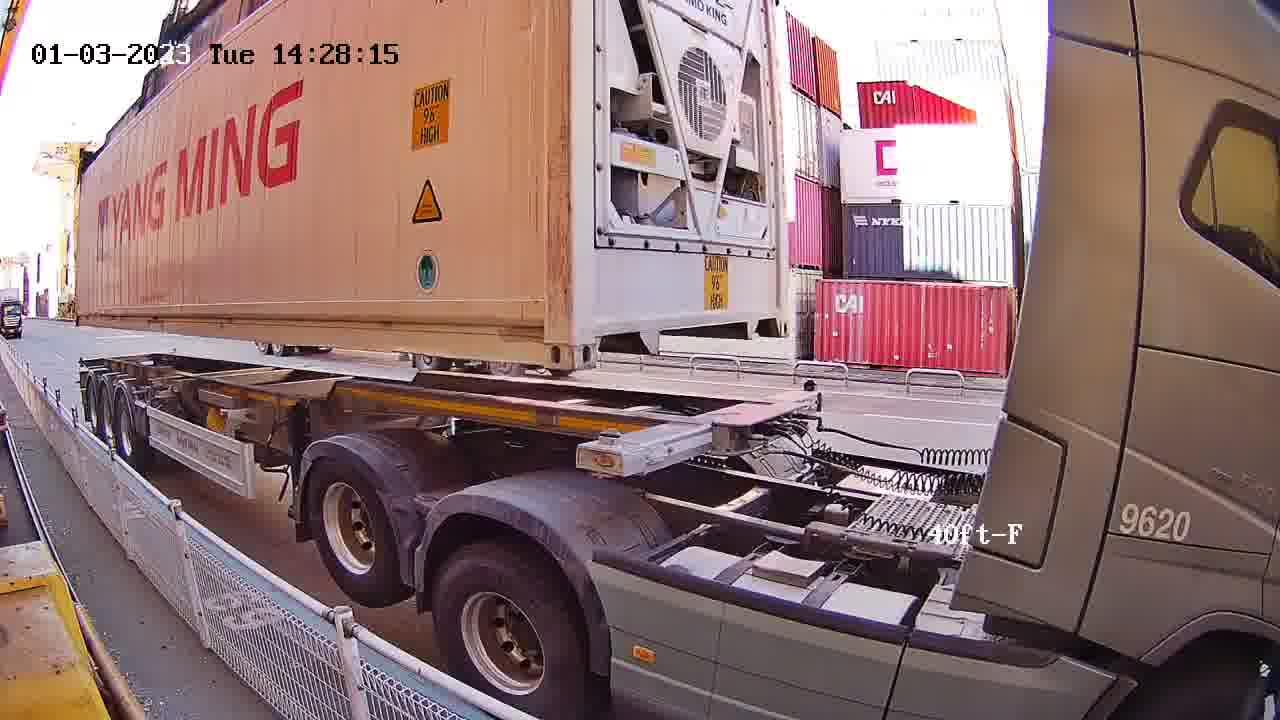Chassis: (576, 388, 823, 477)
Hole_L: (570, 307, 623, 371)
Hole_R: (514, 306, 575, 374), (759, 297, 792, 340)
Tire: (431, 548, 579, 719), (308, 460, 397, 598)
